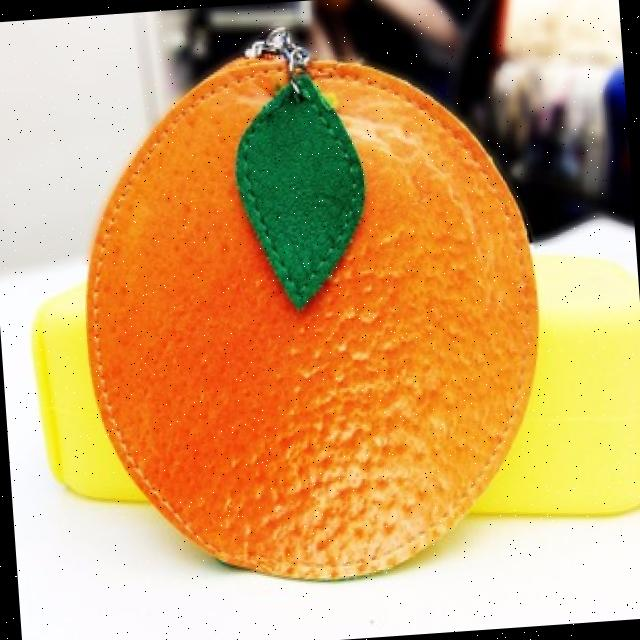Jeruk: (64, 10, 559, 598)
